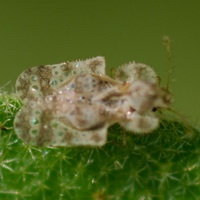insect: (14, 56, 170, 145)
